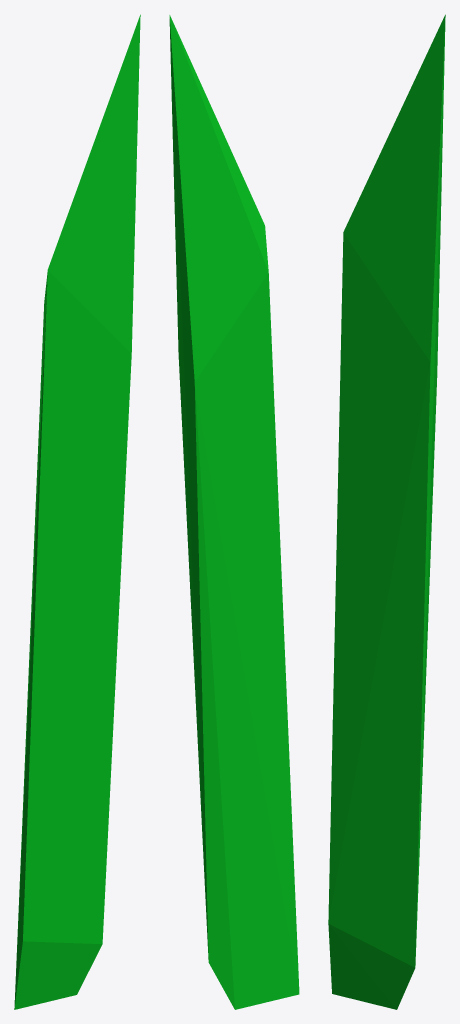
The model's file is waste_bin_convex_piece_016.obj.
3 views of the same model, side by side, from view 1: azimuth 30°, elevation 25°; view 2: azimuth 210°, elevation 25°; view 3: azimuth 330°, elevation 25° (orthographic). The views are drawn at different scales.
Size of the model in its own units: 0.0364 by 0.2887 by 0.00621.
